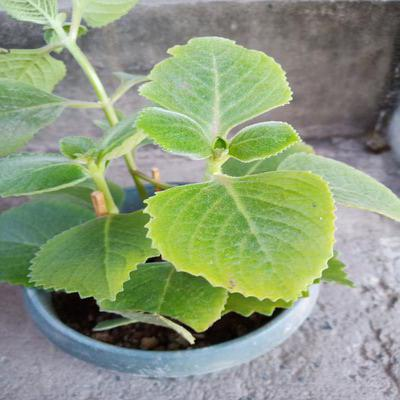Oregano: (20, 34, 349, 337)
